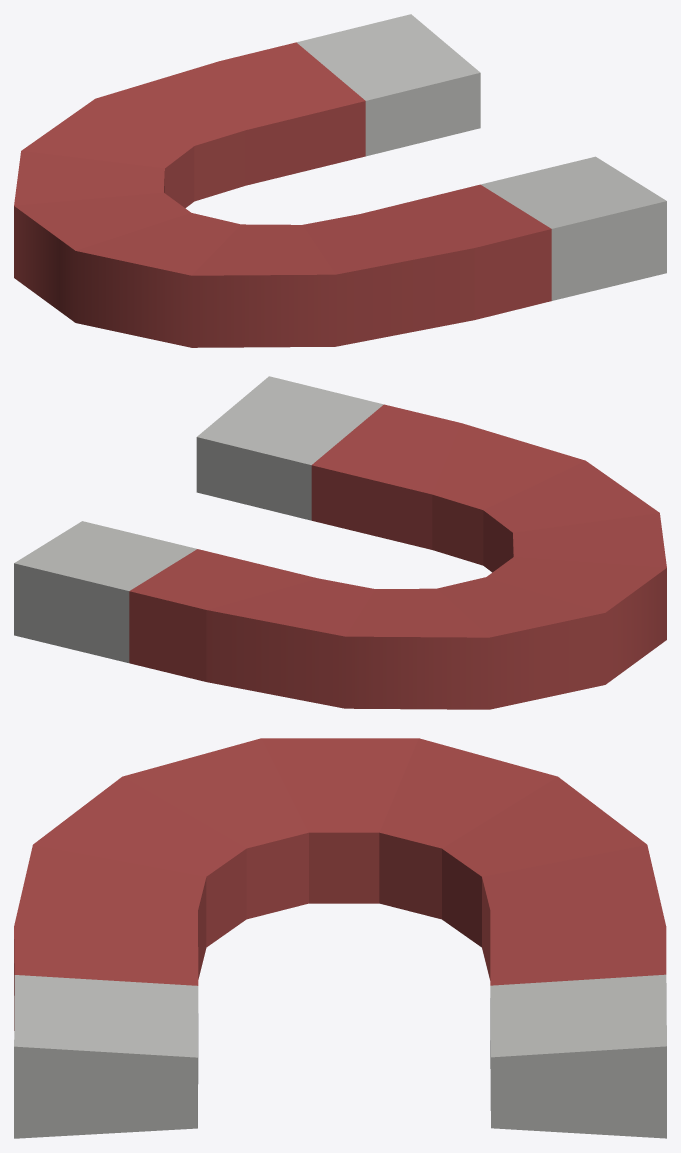
File: Íman.FBX
3 renders of one model, top to bottom at view 1: azimuth 30°, elevation 25°; view 2: azimuth 150°, elevation 25°; view 3: azimuth 270°, elevation 25°, orthographic. The views are drawn at different scales.
Visible parts, largest first — view 1: Cylinder006; view 2: Cylinder006; view 3: Cylinder006.
Boxes of the visible parts, left/top/right/bottom form: Cylinder006: left=14, top=14, right=666, bottom=347; Cylinder006: left=14, top=376, right=666, bottom=709; Cylinder006: left=14, top=738, right=666, bottom=1138.
Bounding box in the file's own units: 77.54 × 10.79 × 69.29.
